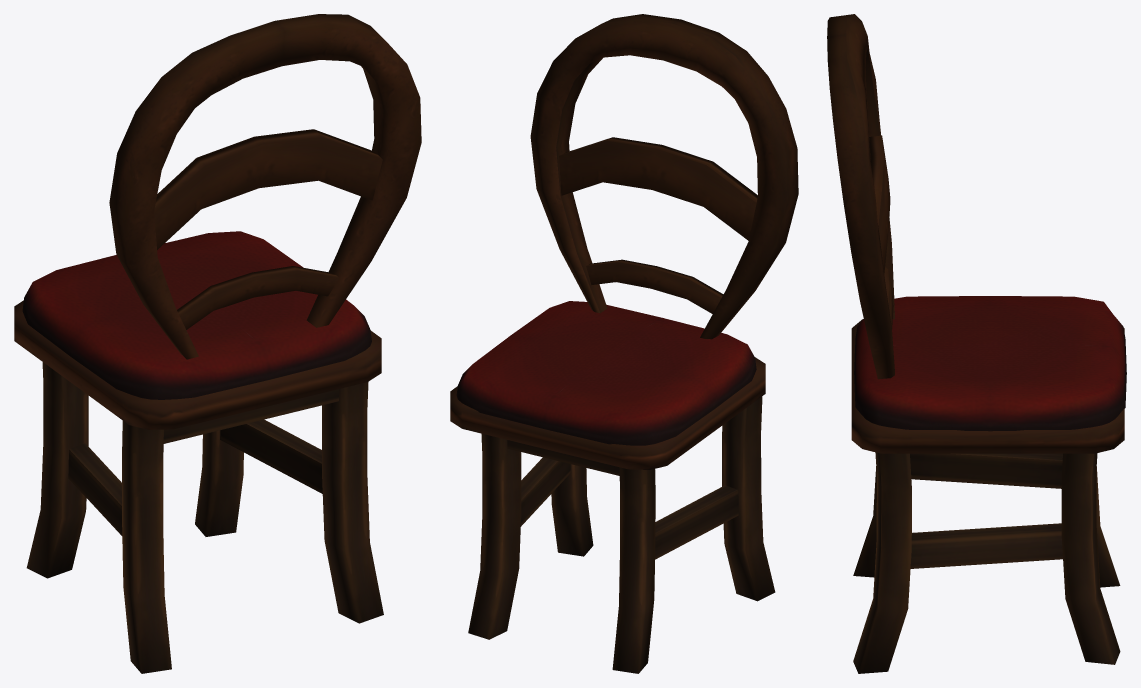
Rendered from Chair_B.fbx.
3 views of the same model, side by side, from view 1: azimuth 30°, elevation 25°; view 2: azimuth 150°, elevation 25°; view 3: azimuth 270°, elevation 25° (orthographic). The views are drawn at different scales.
Parts seen in each view (by area): view 1: Chair_Backing_B, Chair_Cushion_Base_A, Chair_Legs_A, Chair_Base_A, Chair_Legs_A_Support; view 2: Chair_Backing_B, Chair_Cushion_Base_A, Chair_Legs_A, Chair_Base_A, Chair_Legs_A_Support; view 3: Chair_Cushion_Base_A, Chair_Legs_A, Chair_Backing_B, Chair_Legs_A_Support, Chair_Base_A.
Boxes of the visible parts, x1,y1,x2,y2 form: Chair_Backing_B: (109, 14, 421, 359); Chair_Cushion_Base_A: (22, 231, 371, 399); Chair_Legs_A: (26, 362, 383, 673); Chair_Base_A: (14, 300, 381, 429); Chair_Legs_A_Support: (68, 389, 338, 535); Chair_Backing_B: (530, 14, 798, 339); Chair_Cushion_Base_A: (456, 301, 756, 445); Chair_Legs_A: (468, 396, 775, 673); Chair_Base_A: (450, 357, 765, 469); Chair_Legs_A_Support: (507, 440, 738, 559); Chair_Cushion_Base_A: (854, 296, 1126, 431); Chair_Legs_A: (853, 452, 1120, 673); Chair_Backing_B: (827, 14, 894, 379); Chair_Legs_A_Support: (910, 453, 1062, 568); Chair_Base_A: (851, 319, 1124, 453).
Size of the model in its own units: 5.84 by 11.7 by 5.41.
